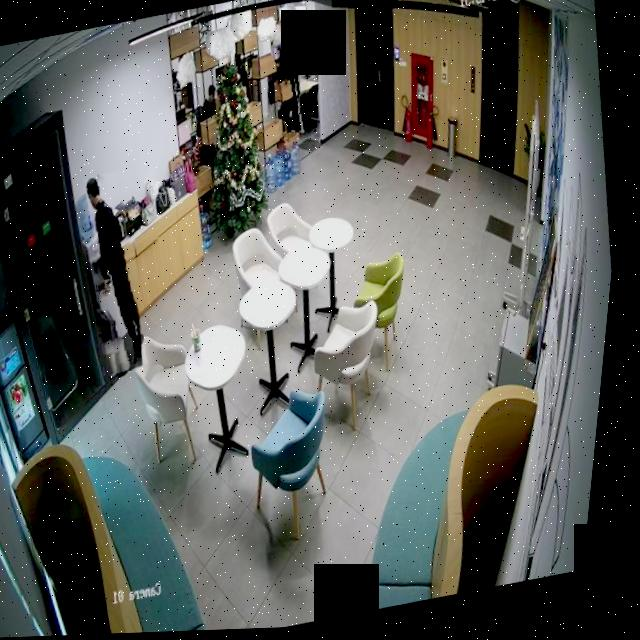person: (77, 169, 165, 378), (268, 41, 322, 146)
